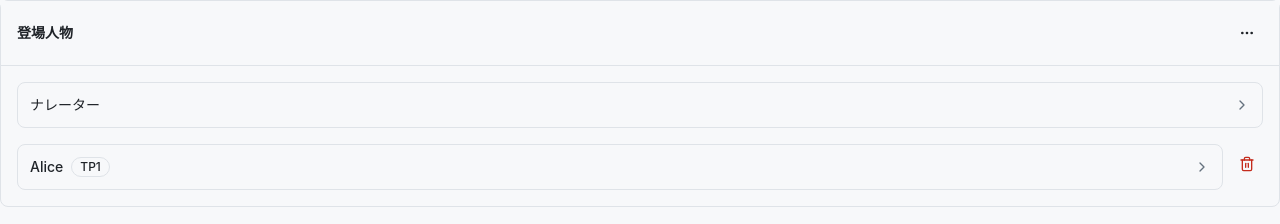
Test: AnalysisContent 登場人物セクション › 登場人物の三点メニューに声の一覧・キャラクター追加・一括生成をまとめる
Click the button named "話者の操作メニュー": (1247, 33) [1231,17,1263,49]
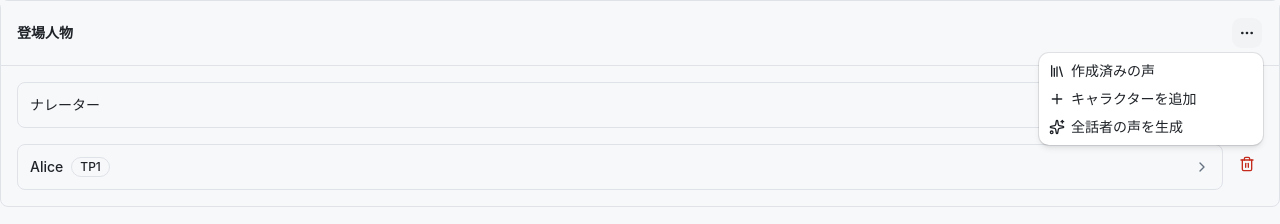
expect the menu item "作成済みの声" is shown: met, box [1049,62,1155,79]
expect the menu item "キャラクターを追加" is shown: met, box [1049,90,1196,107]
expect the menu item "全話者の声を生成" is shown: met, box [1049,118,1183,135]
